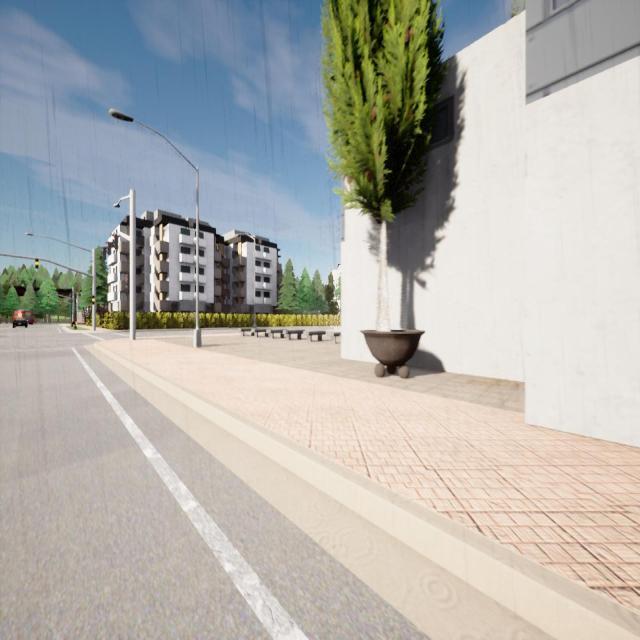Vehicle: (13, 309, 28, 328), (23, 308, 34, 325)
traffic_light: (126, 276, 130, 294), (115, 234, 118, 249), (103, 248, 106, 260), (108, 243, 111, 255), (92, 296, 95, 304), (36, 258, 38, 268), (59, 301, 61, 306), (48, 292, 49, 298), (38, 301, 40, 304)
